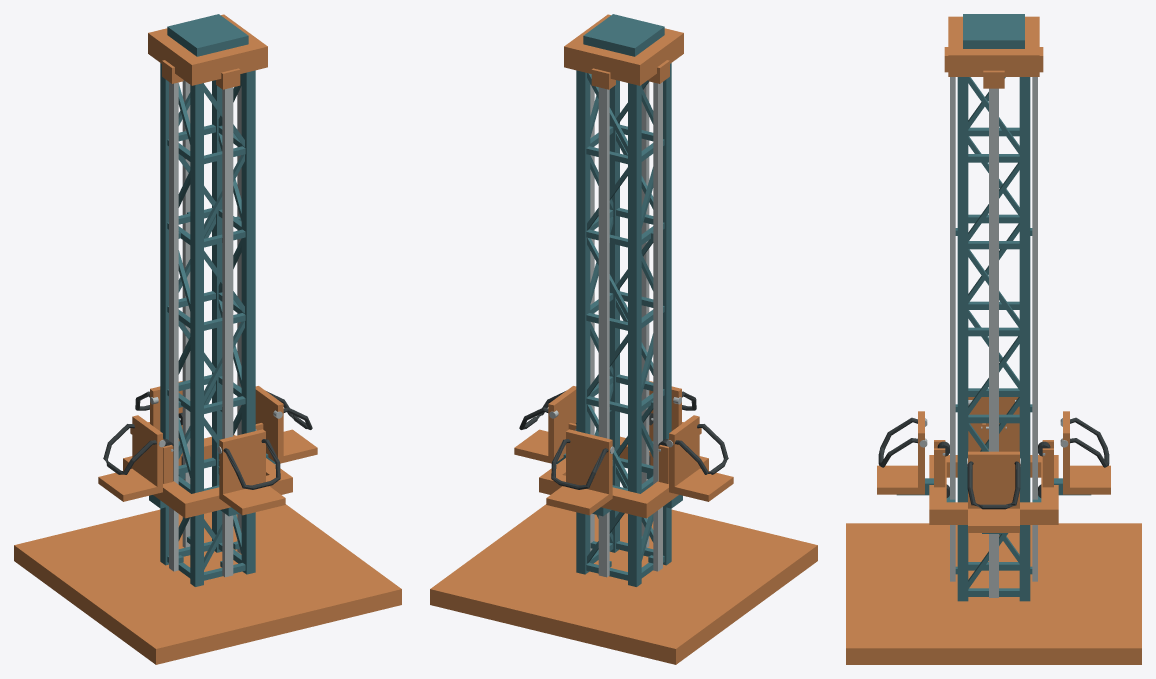
3 renders of one model, left to right at view 1: azimuth 30°, elevation 25°; view 2: azimuth 150°, elevation 25°; view 3: azimuth 270°, elevation 25°, orthographic. The views are drawn at different scales.
Visible parts, largest first — view 1: WholeGroundFootCommonPlinth, WholeContinuousTowerChord_0, WholeContinuousTowerChord_1, WholeContinuousExternalGuideRail_0, WholeContinuousExternalGuideRail_3, WholeContinuousTowerChord_3, WholeOutwardSeatBackShell_0, WholeTowerHeadCap, WholeContinuousTowerChord_2, WholeOutwardSeatBackShell_3, WholeOpenCentreSeatCarriageRing, WholeSmallRaisedHead (+5 smaller); view 2: WholeGroundFootCommonPlinth, WholeContinuousTowerChord_3, WholeContinuousTowerChord_2, WholeContinuousExternalGuideRail_2, WholeContinuousExternalGuideRail_3, WholeContinuousTowerChord_0, WholeOutwardSeatBackShell_2, WholeTowerHeadCap, WholeContinuousTowerChord_1, WholeOutwardSeatBackShell_3, WholeOpenCentreSeatCarriageRing, WholeSmallRaisedHead (+5 smaller); view 3: WholeGroundFootCommonPlinth, WholeContinuousTowerChord_1, WholeContinuousTowerChord_2, WholeContinuousExternalGuideRail_1, WholeOutwardSeatBackShell_1, WholeTowerHeadCap, WholeOpenCentreSeatCarriageRing, WholeContinuousExternalGuideRail_0, WholeContinuousExternalGuideRail_2, WholeSmallRaisedHead, WholeOutwardSeatBackShell_0, WholeOutwardSeatBackShell_2 (+6 smaller).
Boxes of the visible parts, box(x1,y1,x2,y2) form: WholeGroundFootCommonPlinth: box(14, 504, 401, 664); WholeContinuousTowerChord_0: box(190, 83, 203, 586); WholeContinuousTowerChord_1: box(241, 70, 255, 574); WholeContinuousExternalGuideRail_0: box(222, 87, 233, 577); WholeContinuousExternalGuideRail_3: box(169, 82, 178, 571); WholeContinuousTowerChord_3: box(160, 63, 168, 565); WholeOutwardSeatBackShell_0: box(219, 429, 285, 515); WholeTowerHeadCap: box(148, 14, 267, 85); WholeContinuousTowerChord_2: box(212, 80, 222, 552); WholeOutwardSeatBackShell_3: box(98, 415, 162, 501); WholeOpenCentreSeatCarriageRing: box(123, 434, 292, 518); WholeSmallRaisedHead: box(167, 14, 248, 56); WholeGroundFootCommonPlinth: box(430, 504, 817, 664); WholeContinuousTowerChord_3: box(628, 83, 641, 586); WholeContinuousTowerChord_2: box(576, 70, 590, 574); WholeContinuousExternalGuideRail_2: box(598, 87, 609, 577); WholeContinuousExternalGuideRail_3: box(653, 82, 662, 571); WholeContinuousTowerChord_0: box(663, 63, 671, 565); WholeOutwardSeatBackShell_2: box(546, 429, 612, 515); WholeTowerHeadCap: box(564, 14, 683, 85); WholeContinuousTowerChord_1: box(609, 80, 619, 552); WholeOutwardSeatBackShell_3: box(669, 415, 733, 501); WholeOpenCentreSeatCarriageRing: box(539, 436, 708, 518); WholeSmallRaisedHead: box(583, 14, 664, 56); WholeGroundFootCommonPlinth: box(846, 523, 1141, 664); WholeContinuousTowerChord_1: box(957, 77, 968, 601); WholeContinuousTowerChord_2: box(1019, 77, 1030, 601); WholeContinuousExternalGuideRail_1: box(989, 88, 998, 597); WholeOutwardSeatBackShell_1: box(968, 451, 1019, 532); WholeTowerHeadCap: box(948, 16, 1039, 76); WholeOpenCentreSeatCarriageRing: box(929, 455, 1058, 524); WholeContinuousExternalGuideRail_0: box(950, 77, 955, 581); WholeContinuousExternalGuideRail_2: box(1032, 77, 1037, 581); WholeSmallRaisedHead: box(963, 14, 1024, 48); WholeOutwardSeatBackShell_0: box(877, 411, 924, 494); WholeOutwardSeatBackShell_2: box(1063, 411, 1110, 494).
Bounding box in the file's own units: 2.1 × 4.51 × 2.1.
